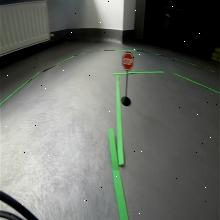stop: (122, 52, 134, 71)
